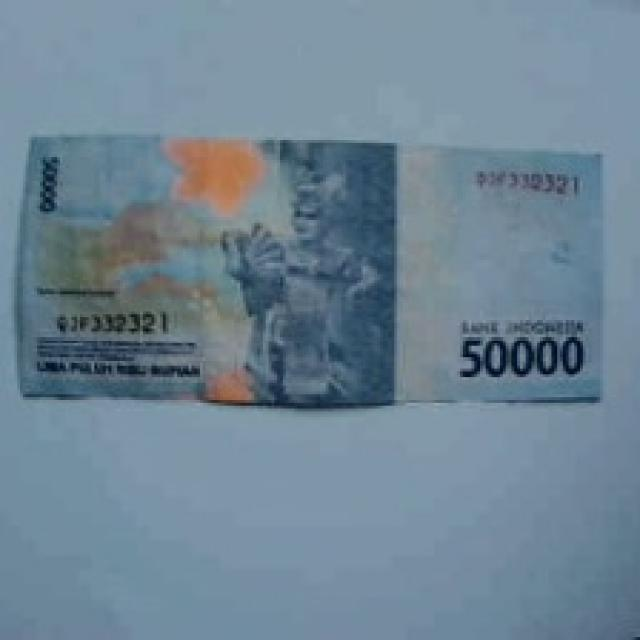dua ribu rupiah: (0, 95, 640, 405)
